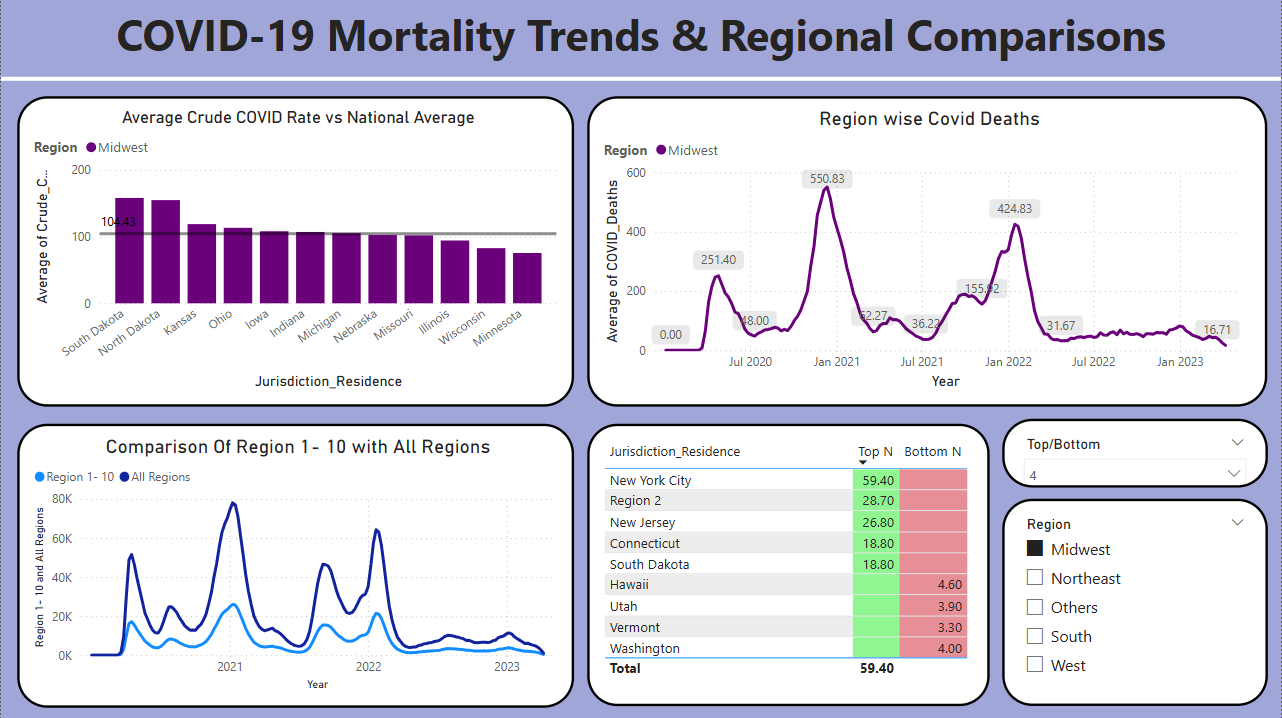

What the dashboard file says about the page in this screenshot:
{"tool":"powerbi","page":{"name":"DASHBOARD","canvas":[1280,720],"ordinal":5},"visuals":[{"type":"lineChart","title":"Region wise Covid Deaths","fields":{"Y":["Avg(COVID_Data.COVID_Deaths)"],"Category":["COVID_Data.Data_Period_End.Variation.Date Hierarchy.Year","COVID_Data.Data_Period_End.Variation.Date Hierarchy.Quarter","COVID_Data.Data_Period_End.Variation.Date Hierarchy.Month","COVID_Data.Data_Period_End.Variation.Date Hierarchy.Day"],"Series":["COVID_Data.Region"]},"box":[586.9,96.1,679.9,310.7],"z":0},{"type":"columnChart","title":"Average Crude COVID Rate vs National Average","fields":{"Y":["Avg(COVID_Data.Crude_COVID_Rate)"],"Category":["COVID_Data.Jurisdiction_Residence"],"Series":["COVID_Data.Region"]},"box":[16.5,96.1,556.9,310.7],"z":1000},{"type":"lineChart","title":"Comparison Of Region 1- 10 with All Regions","fields":{"Y":["COVID_Data.Region 1- 10","Sum(COVID_Data.COVID_Deaths)"],"Category":["COVID_Data.Data_Period_End.Variation.Date Hierarchy.Year","COVID_Data.Data_Period_End.Variation.Date Hierarchy.Quarter","COVID_Data.Data_Period_End.Variation.Date Hierarchy.Month","COVID_Data.Data_Period_End.Variation.Date Hierarchy.Day"]},"box":[16.5,423.3,556.9,283.7],"z":2000},{"type":"tableEx","fields":{"Values":["COVID_Data.Jurisdiction_Residence","COVID_Data.Top N","COVID_Data.Bottom N"]},"box":[586.9,423.3,402.3,282.2],"z":3000},{"type":"slicer","fields":{"Values":["For Top Bottom.Value"]},"box":[1001.1,418.8,265.7,69],"z":4000},{"type":"slicer","fields":{"Values":["COVID_Data.Region"]},"box":[1001.1,498.3,265.7,207.1],"z":5000},{"type":"textbox","box":[0,0,1280.3,67.5],"z":6000},{"type":"shape","box":[0,0,1280.3,157.6],"z":7000}]}

Visuals, with their boxes in screenshot pixels (x1, y1, x2, y2), scaled from the page's 1280x720 canvas onto the 1282x718 screenshot:
"Region wise Covid Deaths" lineChart: box=[588, 96, 1269, 406]
"Average Crude COVID Rate vs National Average" columnChart: box=[17, 96, 574, 406]
"Comparison Of Region 1- 10 with All Regions" lineChart: box=[17, 422, 574, 705]
tableEx - COVID_Data.Jurisdiction_Residence x COVID_Data.Top N: box=[588, 422, 991, 704]
slicer - For Top Bottom.Value: box=[1003, 418, 1269, 486]
slicer - COVID_Data.Region: box=[1003, 497, 1269, 703]
textbox: box=[0, 0, 1281, 67]
shape: box=[0, 0, 1281, 157]
